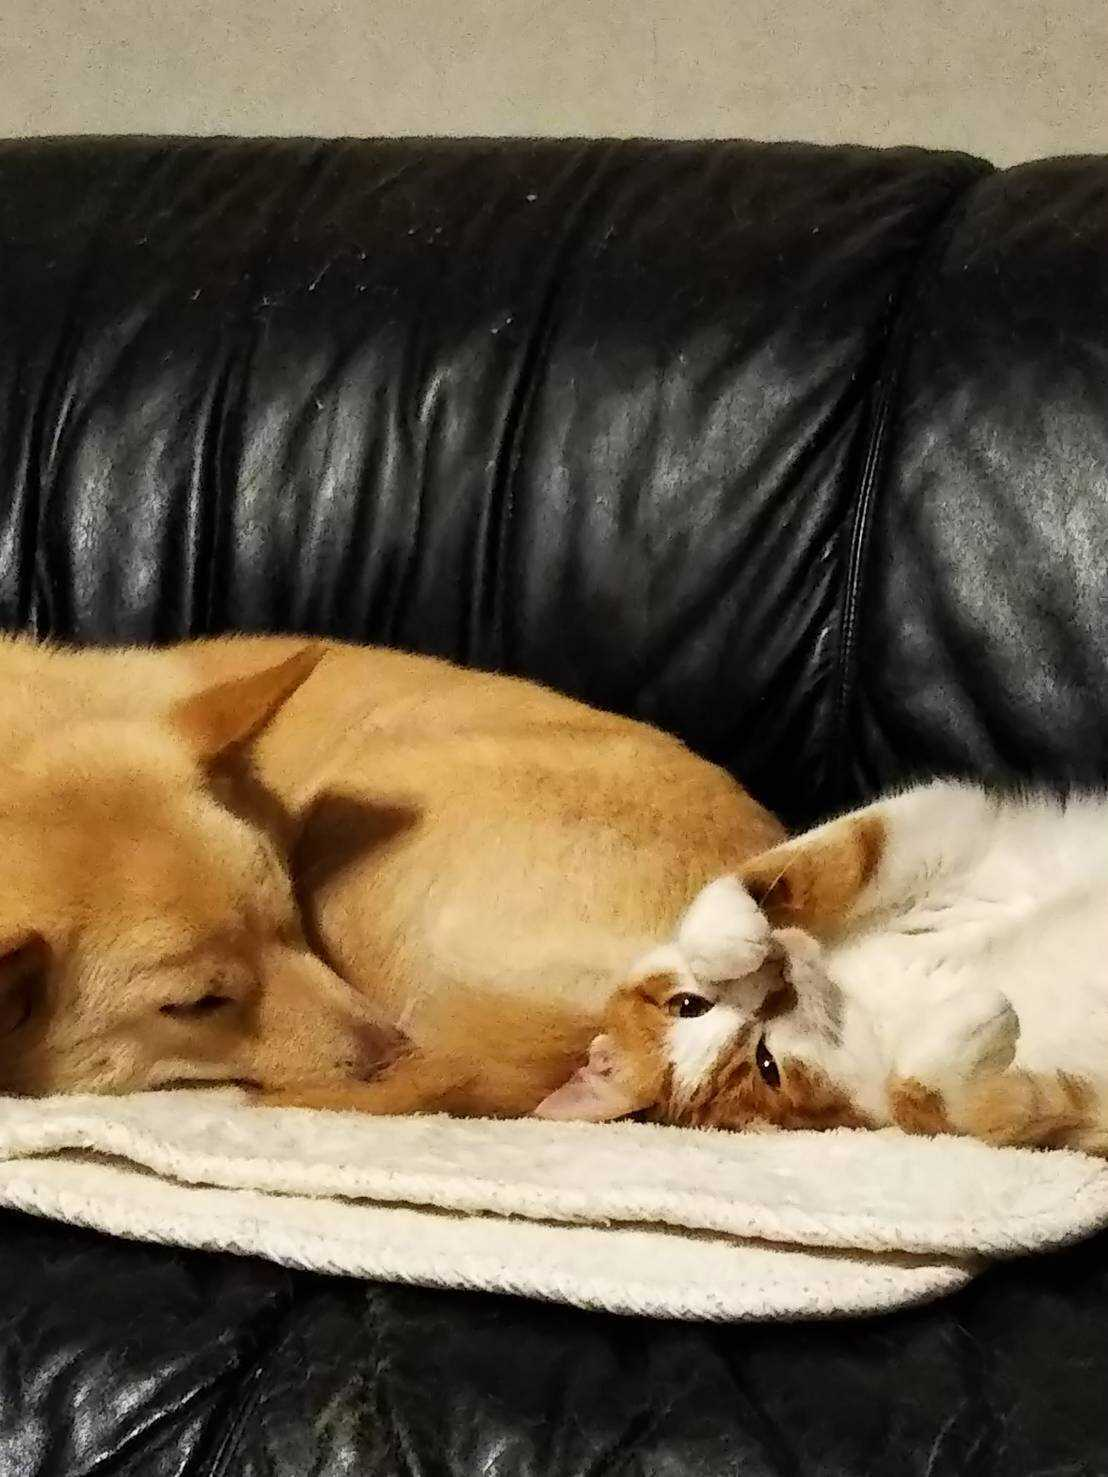cat: (589, 777, 1100, 1136)
dog: (10, 640, 498, 1103)
